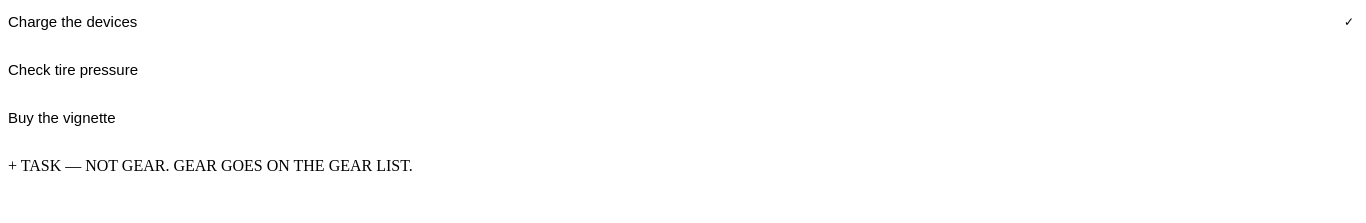
Test: the composer › commits nothing on an empty blur and the dashed row returns
Click the button "+ TASK — NOT GEAR. GEAR GOES ON THE GEAR LIST." at x=210, y=166, box [8,142,1358,190]
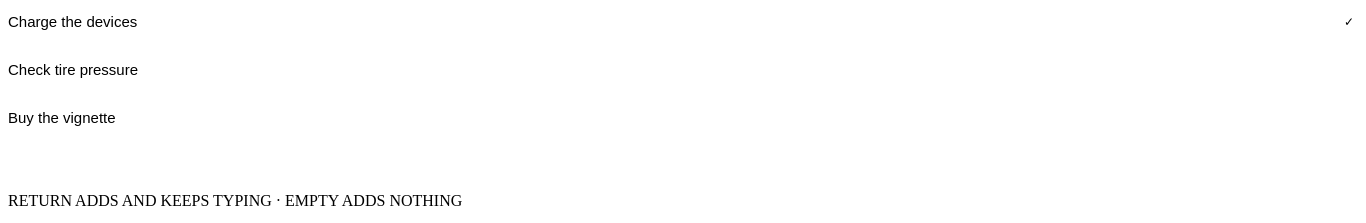
Press Tab
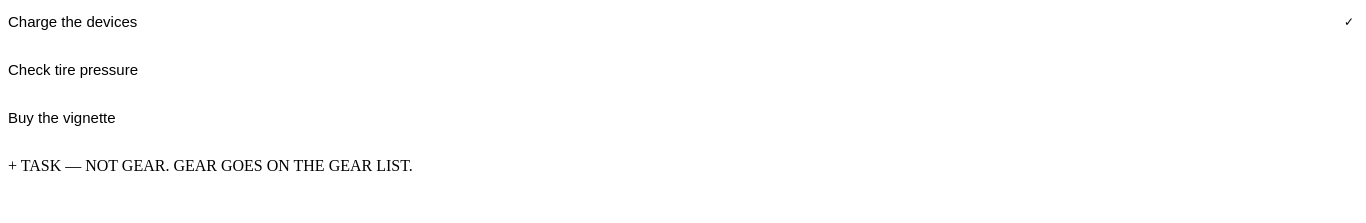
expect the button "+ TASK — NOT GEAR. GEAR GOES ON THE GEAR LIST." is shown: met, box [8,142,1358,190]
